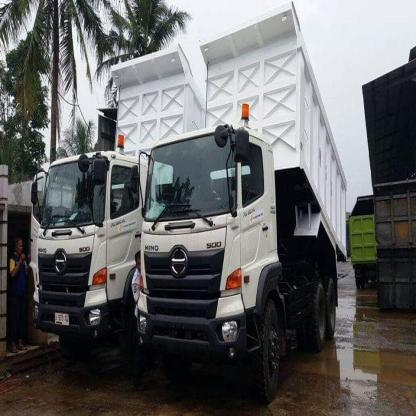dump_truck: (135, 46, 345, 395), (32, 62, 164, 386)
person: (7, 228, 34, 357)
